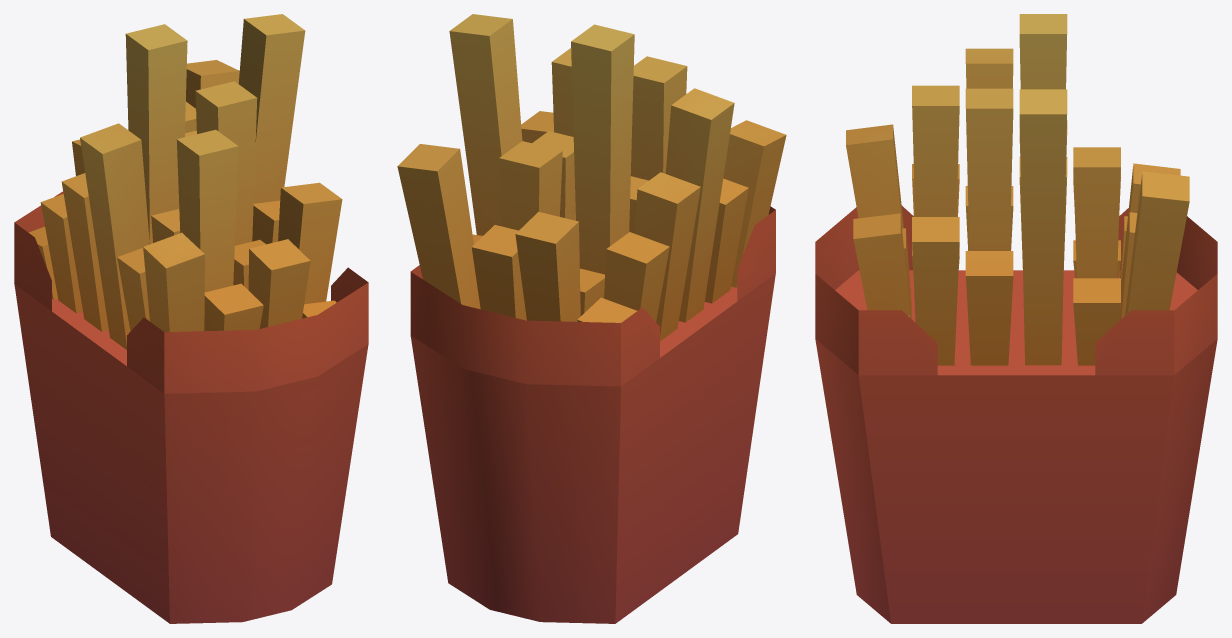
The model's file is cold-fries.glb.
The picture shows the model from 3 angles, left to right: view 1: azimuth 30°, elevation 25°; view 2: azimuth 150°, elevation 25°; view 3: azimuth 270°, elevation 25°; orthographic projection. The views are drawn at different scales.
Parts seen in each view (by area): view 1: cold-fries; view 2: cold-fries; view 3: cold-fries.
Part boxes in pixels (left/top/right/bottom): cold-fries: left=14, top=14, right=368, bottom=623; cold-fries: left=397, top=14, right=786, bottom=623; cold-fries: left=815, top=14, right=1217, bottom=623.
Size of the model in its own units: 0.1196 by 0.26 by 0.1734.
